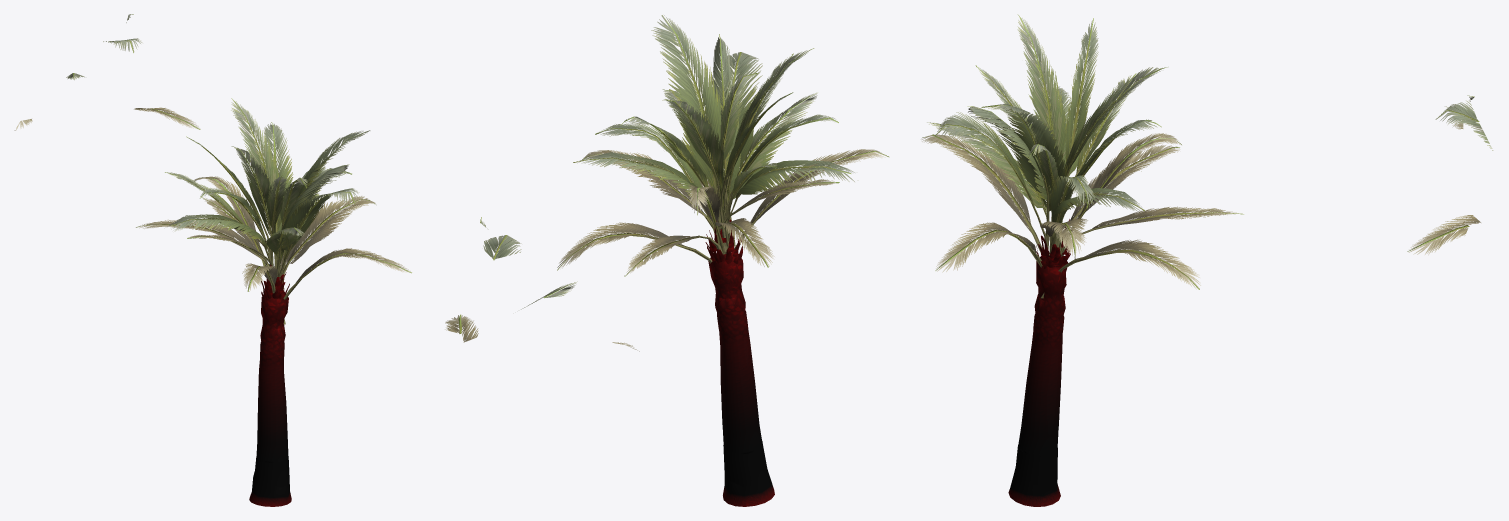
Rendered from source-palm.glb.
The picture shows the model from 3 angles, left to right: view 1: azimuth 30°, elevation 25°; view 2: azimuth 150°, elevation 25°; view 3: azimuth 270°, elevation 25°; orthographic projection. The views are drawn at different scales.
Parts seen in each view (by area): view 1: fronds, trunk; view 2: fronds, trunk; view 3: fronds, trunk.
Boxes of the visible parts, x1,y1,x2,y2 form: fronds: [14, 14, 411, 324]; trunk: [249, 264, 291, 506]; fronds: [445, 15, 889, 351]; trunk: [705, 219, 774, 506]; fronds: [921, 14, 1493, 298]; trunk: [1008, 219, 1070, 506].
Size of the model in its own units: 3.16 by 5.04 by 5.79.
2 materials, 2 textured.
